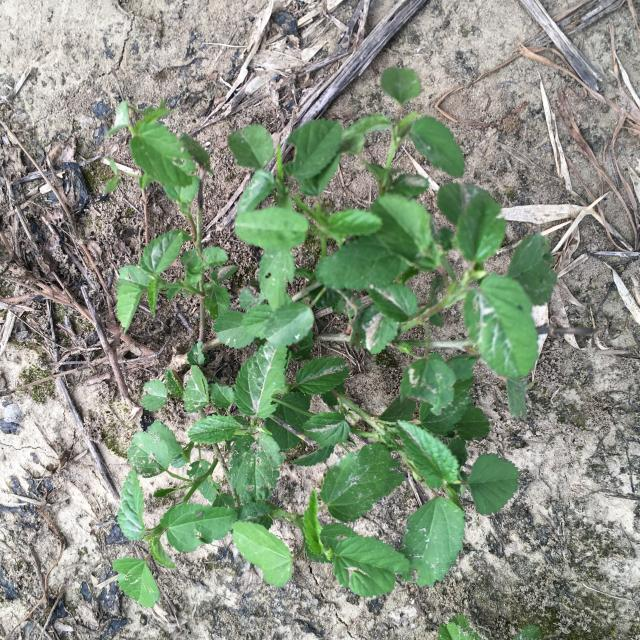PricklySida: (105, 66, 556, 608)
